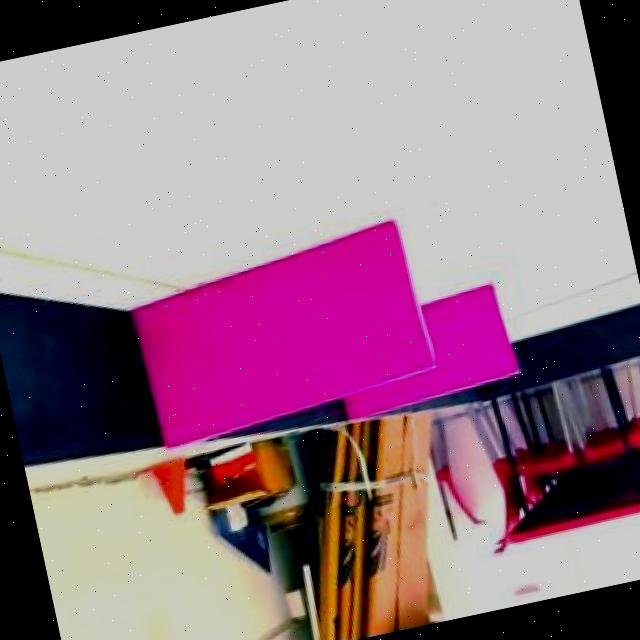xparking: (127, 228, 426, 432), (429, 286, 516, 388)
